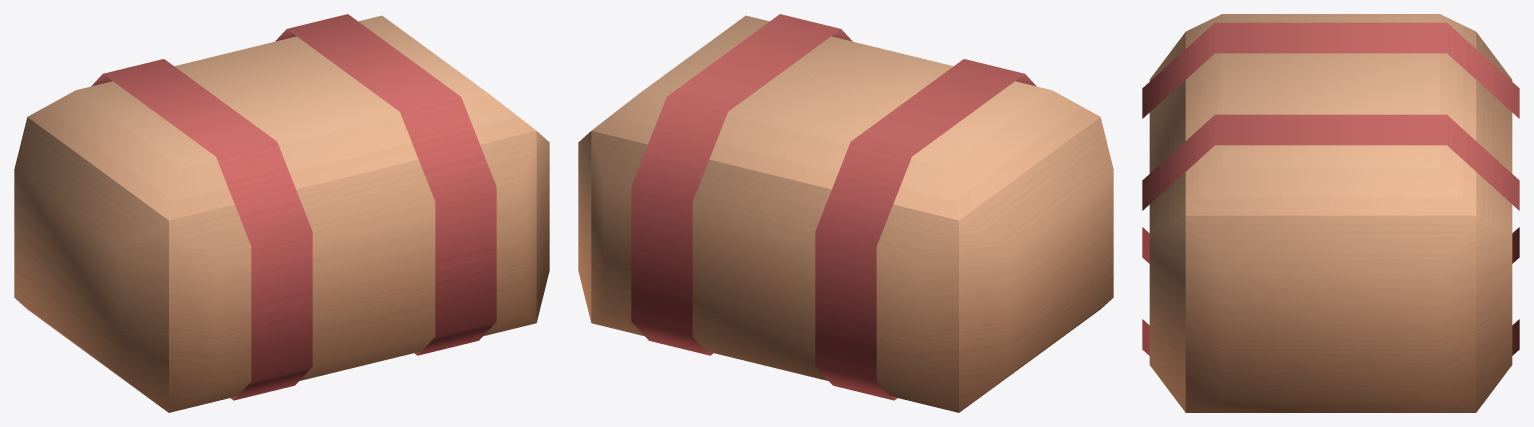
The model's file is hay-bale-bundled.glb.
3 renders of one model, left to right at view 1: azimuth 30°, elevation 25°; view 2: azimuth 150°, elevation 25°; view 3: azimuth 270°, elevation 25°, orthographic. The views are drawn at different scales.
Parts seen in each view (by area): view 1: hay-bale-bundled; view 2: hay-bale-bundled; view 3: hay-bale-bundled.
Part boxes in pixels (box(x1,y1,x2,y2)): hay-bale-bundled: box(14, 14, 549, 412); hay-bale-bundled: box(578, 14, 1113, 412); hay-bale-bundled: box(1142, 14, 1519, 412).
Bounding box in the file's own units: 2.1 × 1.08 × 1.56.
1 material, 1 textured.
